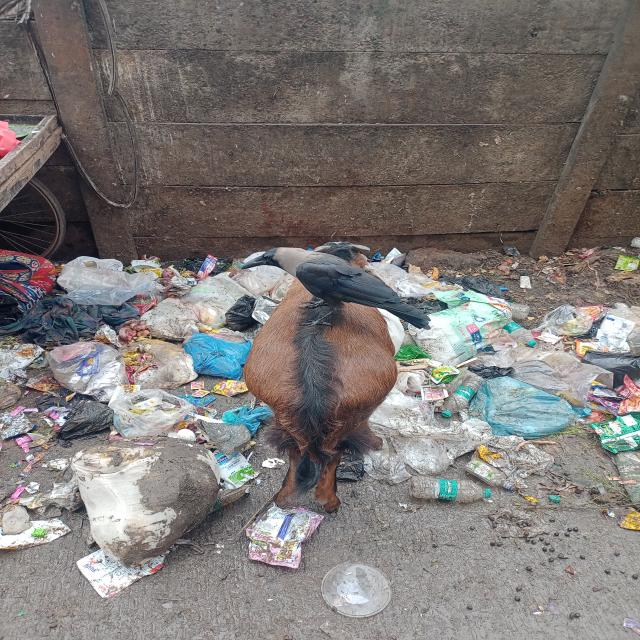garbage: (0, 246, 276, 541), (382, 254, 631, 505)
